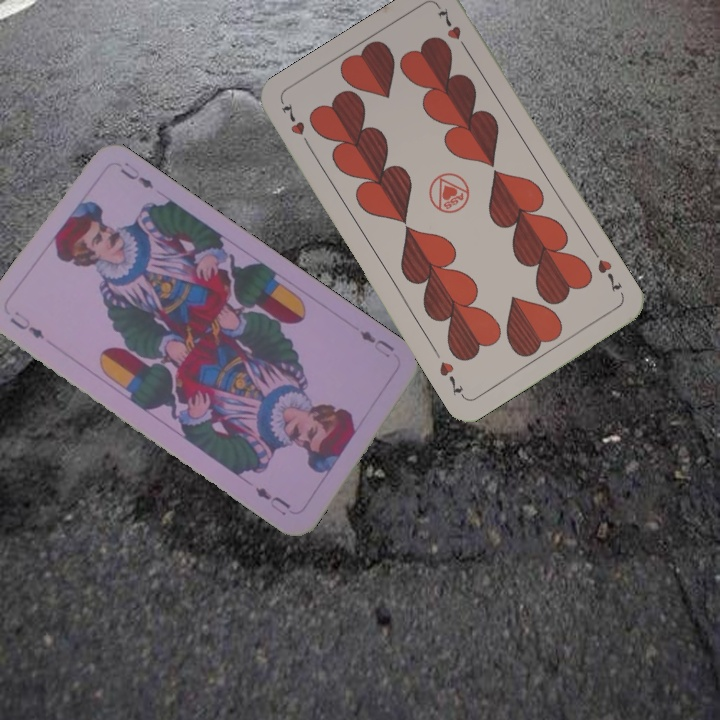EU: (355, 326, 397, 361), (5, 307, 47, 342)
H7: (277, 99, 314, 152), (593, 255, 624, 295)
